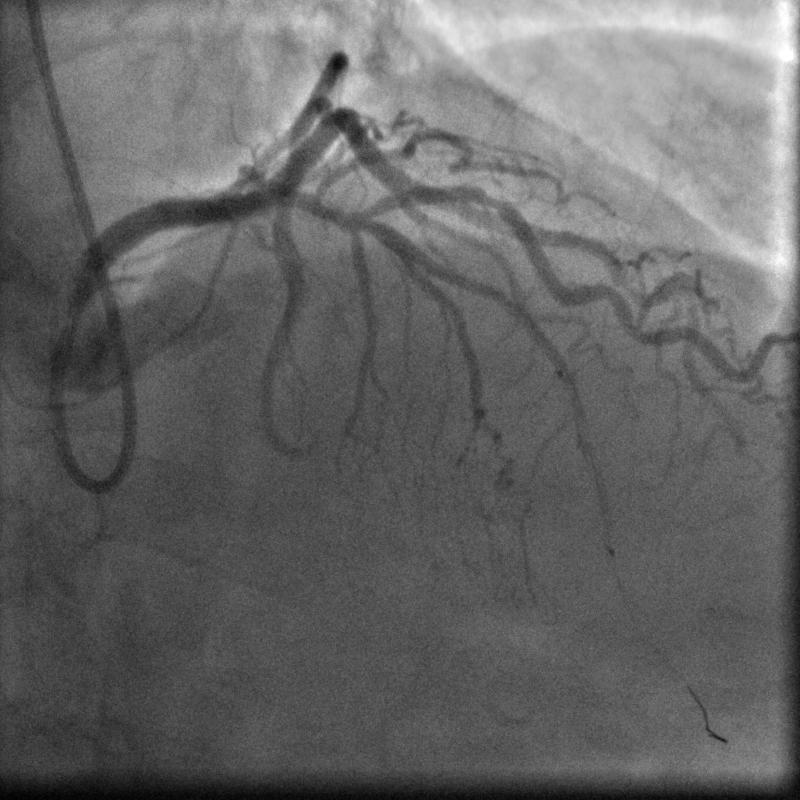Stenosis: (470, 181, 511, 222)
